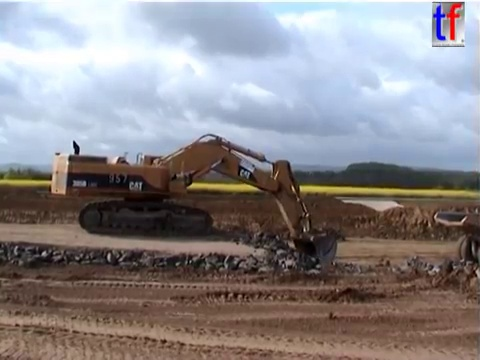excavator: (48, 131, 341, 280)
truck: (432, 208, 480, 266)
